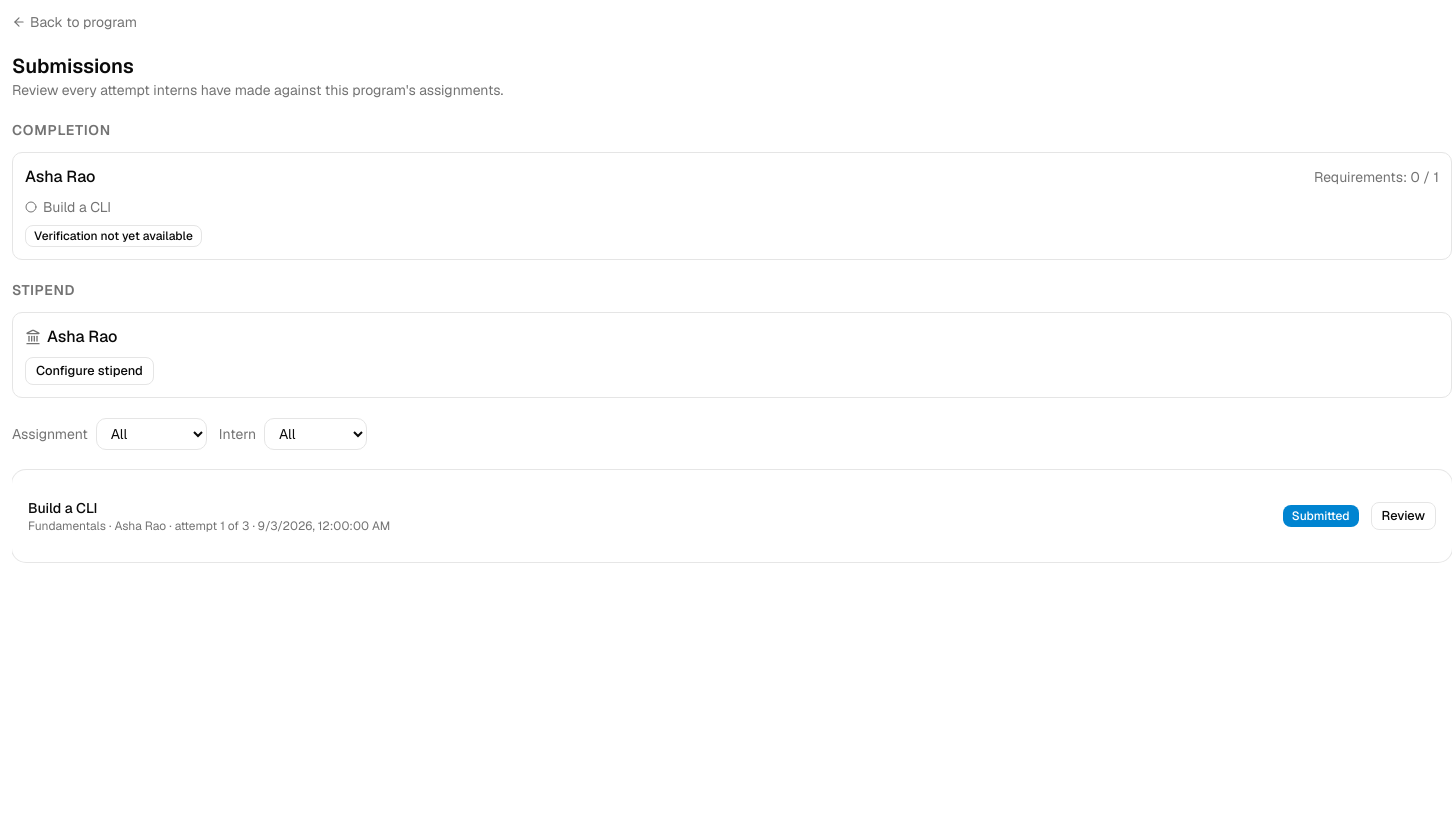
Test: ProgramSubmissionsView › opens a submission and shows its full attempt history
This screenshot has width=1452, height=822.
Click the button "Review" at (1403, 516), box left=1371, top=502, right=1436, bottom=530
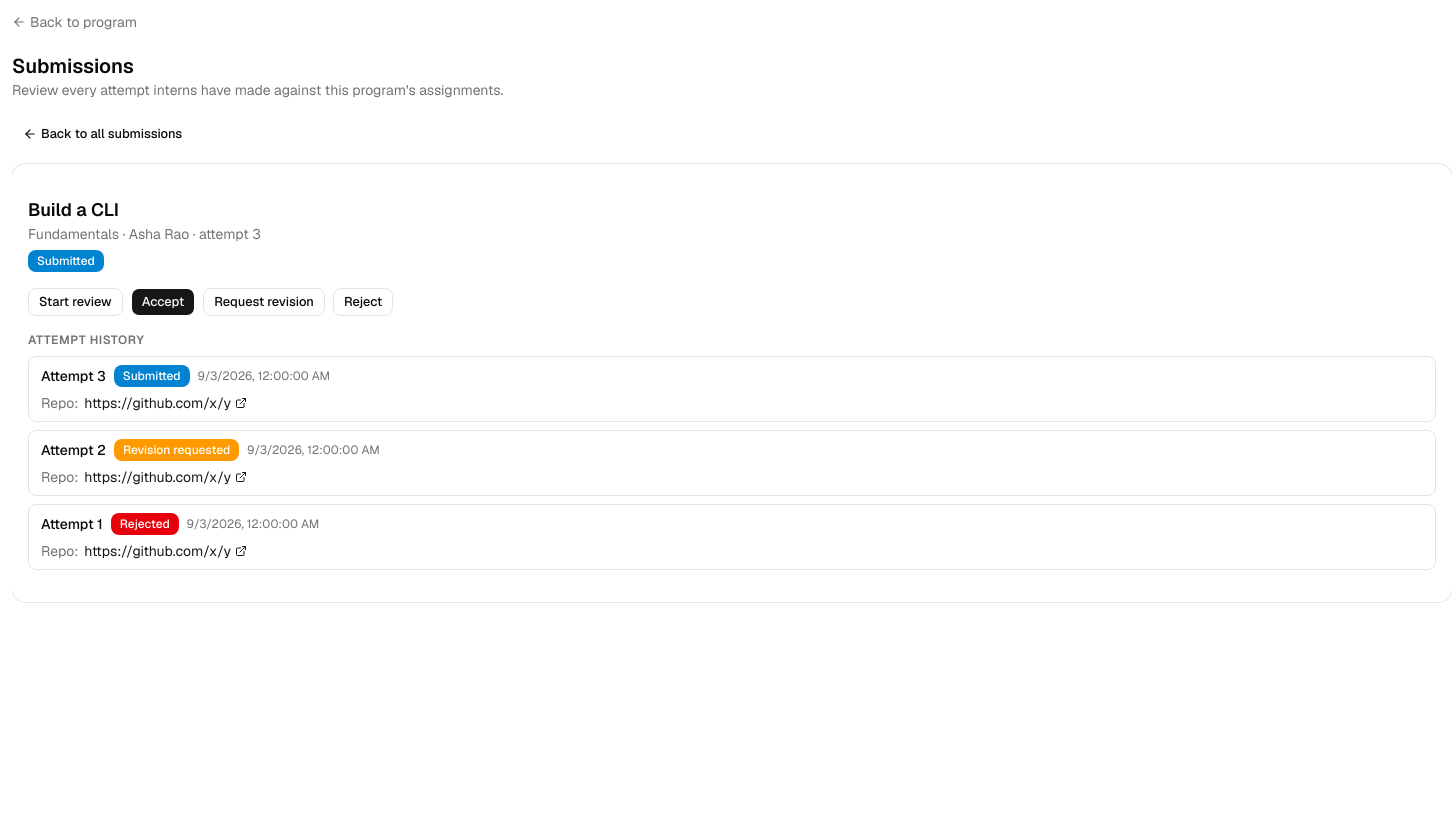
Expected: the text "Attempt 1" is shown, left=41, top=514, right=103, bottom=534
Expected: the text "Attempt 3" is shown, left=41, top=366, right=106, bottom=386
Expected: the text "Attempt 2" is shown, left=41, top=440, right=106, bottom=460
